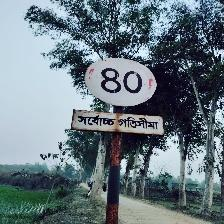Speed-limit: (71, 56, 163, 136)
